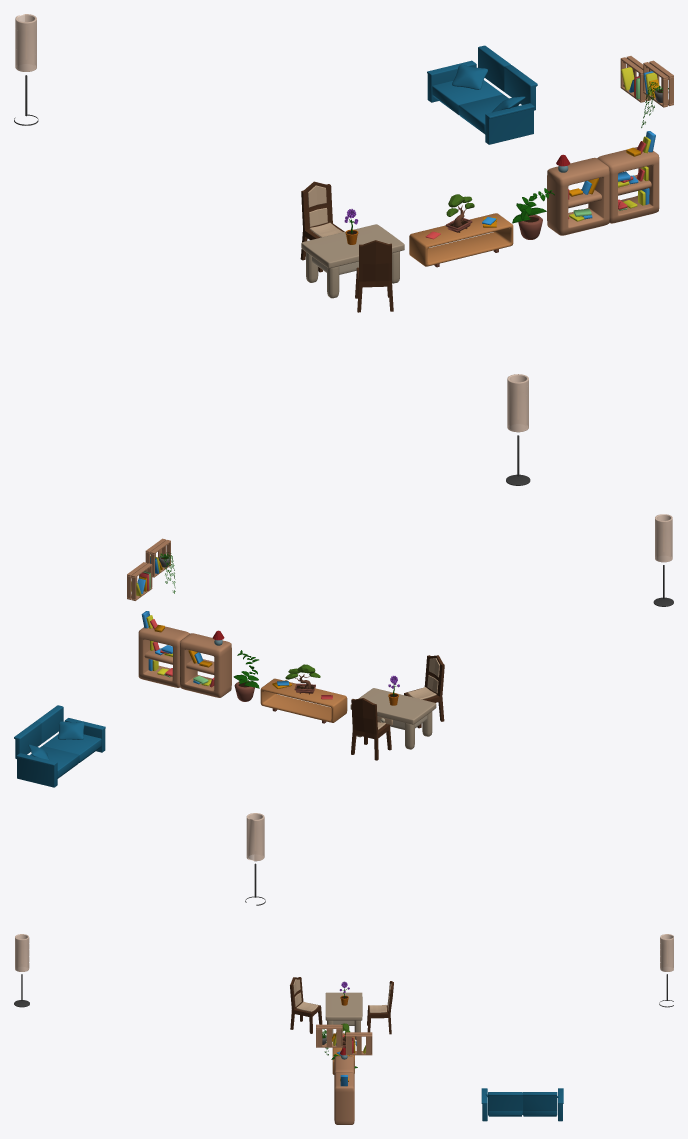
The picture shows the model from 3 angles, top to bottom: view 1: azimuth 30°, elevation 25°; view 2: azimuth 150°, elevation 25°; view 3: azimuth 270°, elevation 25°; orthographic projection. The views are drawn at different scales.
Parts seen in each view (by area): view 1: T-Room Suburb I; view 2: T-Room Suburb I; view 3: T-Room Suburb I.
Boxes of the visible parts, left/top/right/bottom form: T-Room Suburb I: left=14, top=14, right=673, bottom=485; T-Room Suburb I: left=14, top=514, right=673, bottom=905; T-Room Suburb I: left=14, top=934, right=673, bottom=1124.
Bounding box in the file's own units: 6.98 × 2.54 × 15.55.
5 materials, 1 textured.
